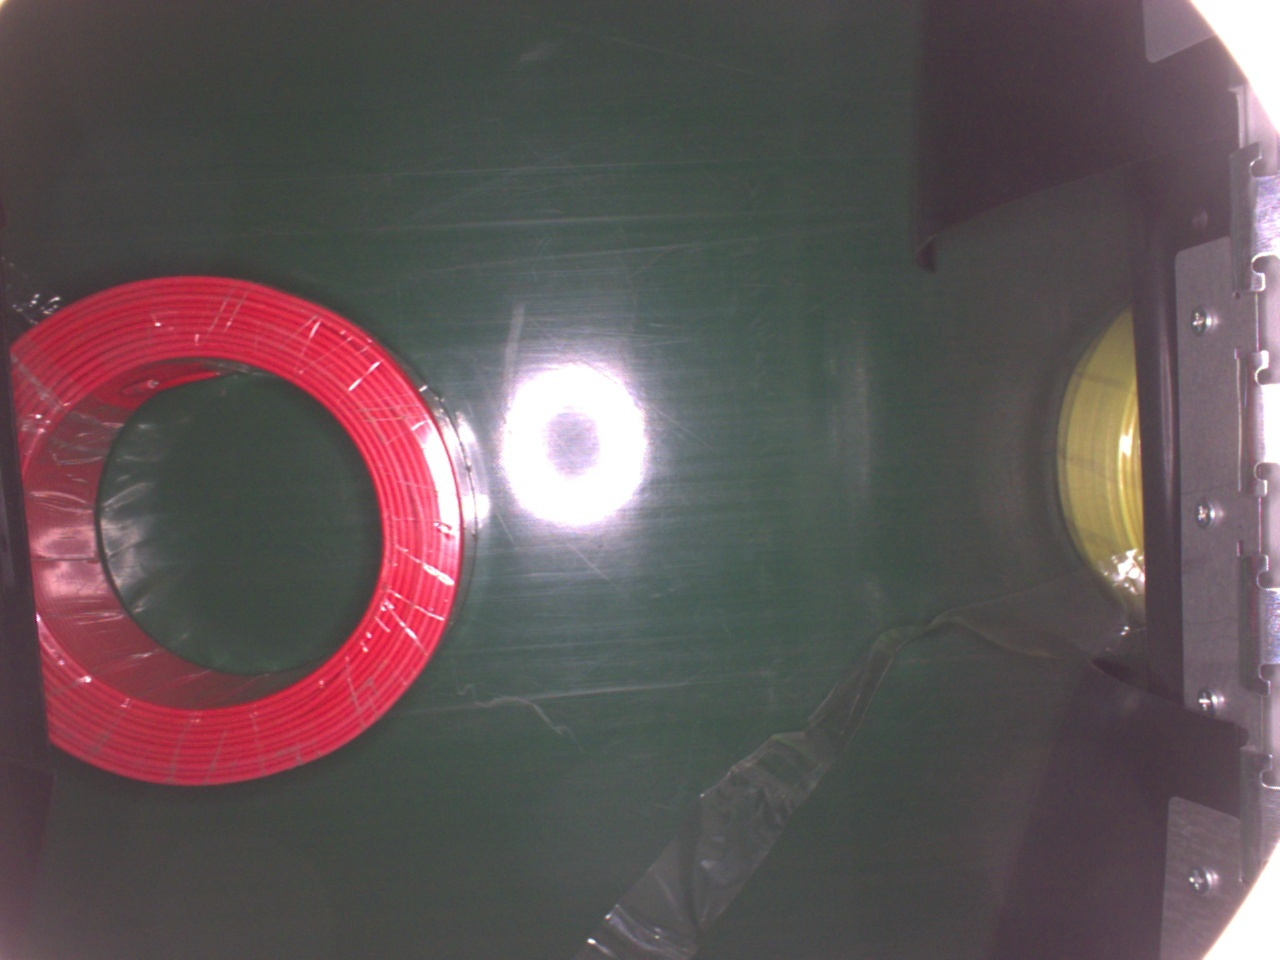red: (0, 273, 481, 787)
